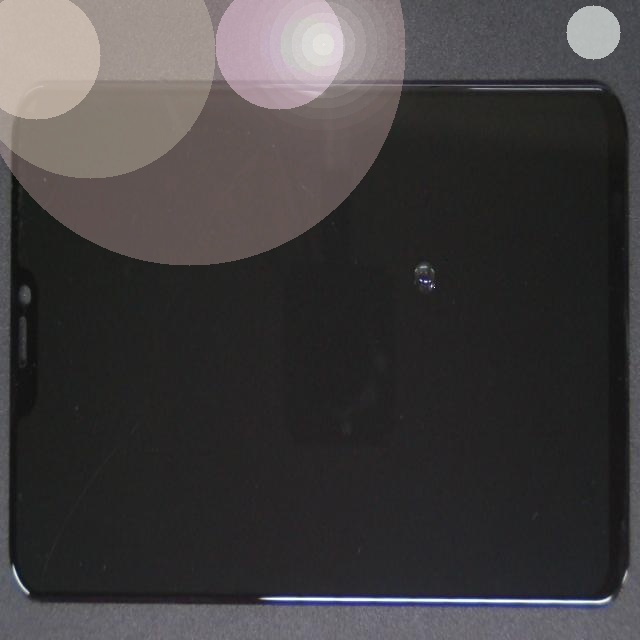oil: (191, 111, 620, 426)
